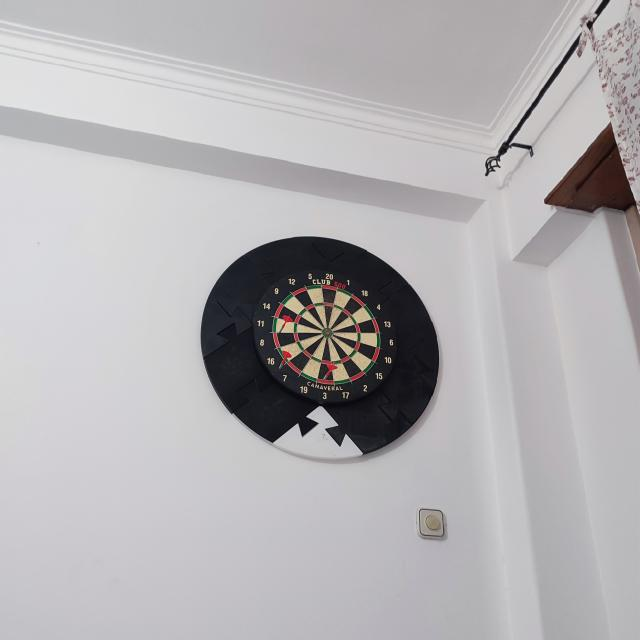dart: (278, 349, 292, 372), (322, 362, 338, 382), (322, 362, 338, 382), (278, 314, 293, 334), (278, 314, 293, 334), (278, 350, 292, 371)
